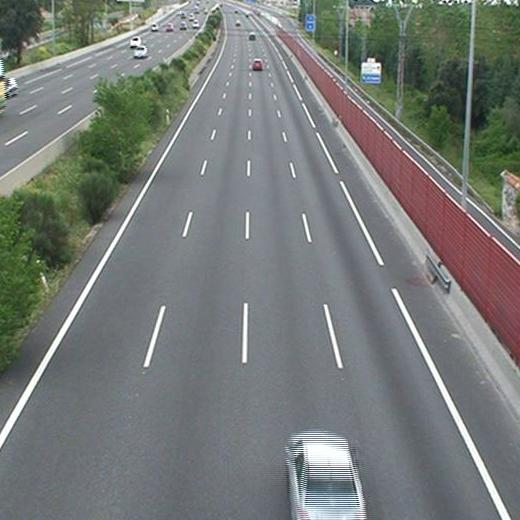car: (287, 432, 364, 520), (253, 59, 263, 69)
